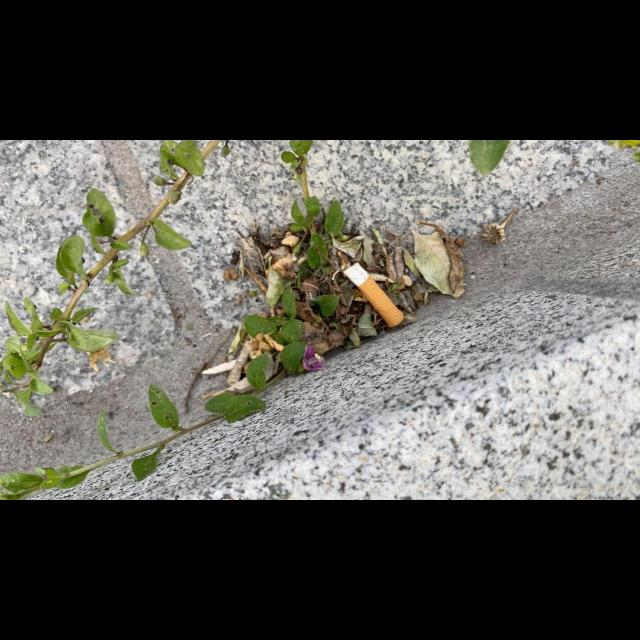cigarette: (343, 262, 405, 328)
